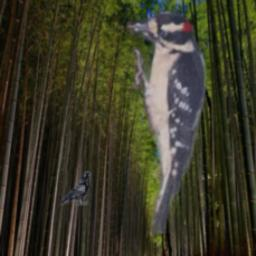Crow: (60, 171, 93, 205)
Woodpecker: (127, 7, 209, 235)
